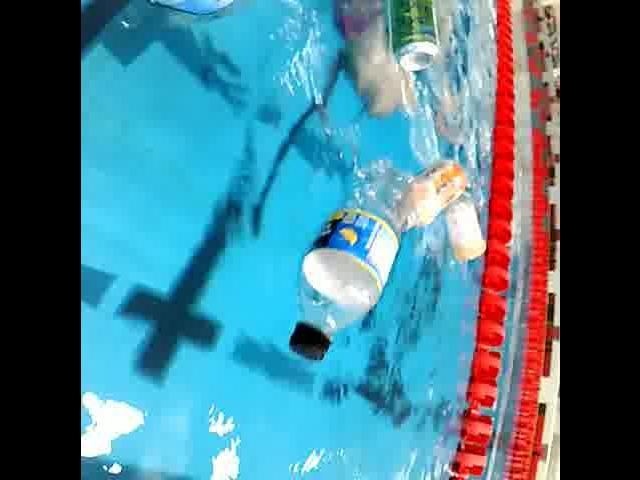Bottle: (282, 182, 406, 376), (390, 155, 468, 241), (80, 0, 286, 21), (441, 183, 493, 264)
Can: (384, 0, 440, 78)
